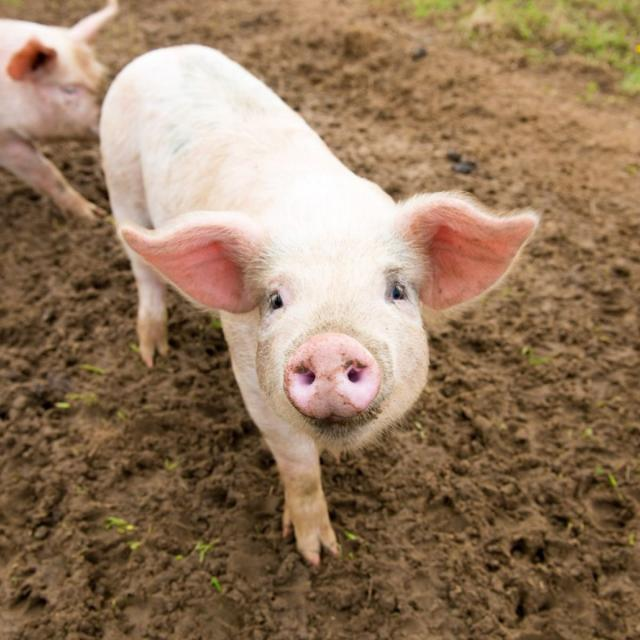Pig: (91, 34, 549, 570)
